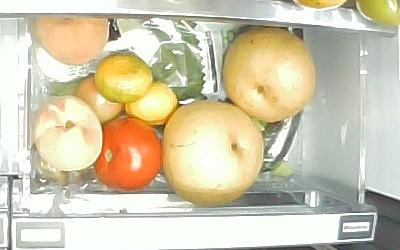peach: (29, 93, 103, 172), (33, 11, 109, 66)
pear: (162, 100, 264, 207), (222, 24, 318, 123)
tangerine: (95, 52, 152, 103), (125, 79, 180, 124)
tomato: (92, 116, 163, 191), (71, 73, 123, 124)
